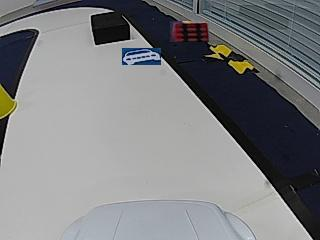block: (90, 12, 130, 44)
cone: (0, 84, 17, 118)
